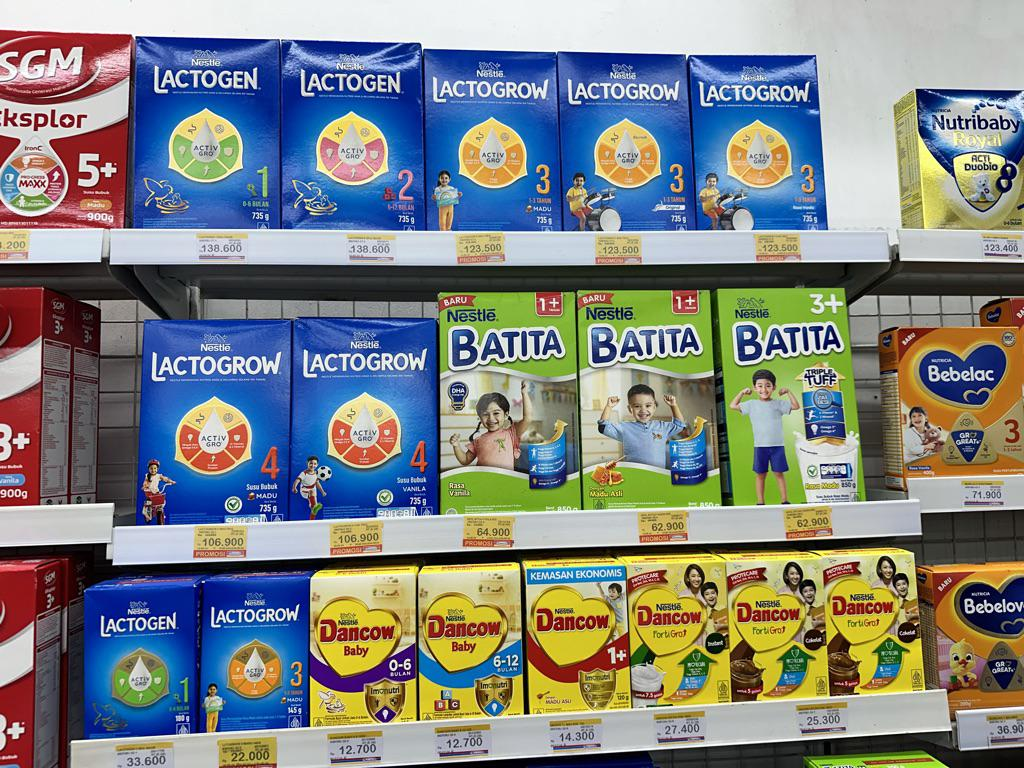LACTOGEN 1 Happynutri 12x750g N1 ID_REDESIGN2: (135, 37, 282, 230)
LACTOGEN 1 Happynutri 40x180g N1 ID_REDESIGN2: (83, 582, 197, 742)
LACTOGEN 2 Happynutri 12x750g N1 ID_REDESIGN2: (282, 39, 426, 232)
LACTOGROW 3 Happynutri Honey 12x750g N1 ID_REDESIGN2: (423, 48, 564, 233)
LACTOGROW 3 Happynutri Van 12x750g N1 ID_REDESIGN2: (691, 53, 826, 232)
